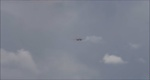maybay_muctieu: (72, 34, 87, 43)
